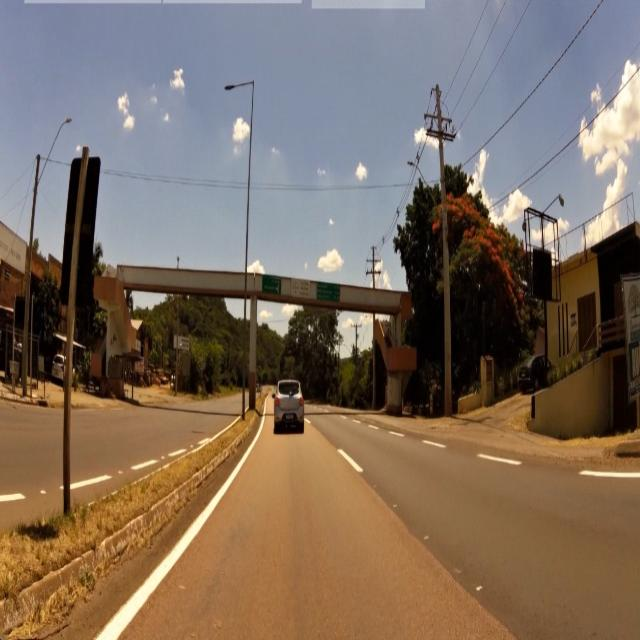E-5: (292, 278, 309, 298)
I-4: (317, 281, 339, 302), (262, 274, 280, 294)
